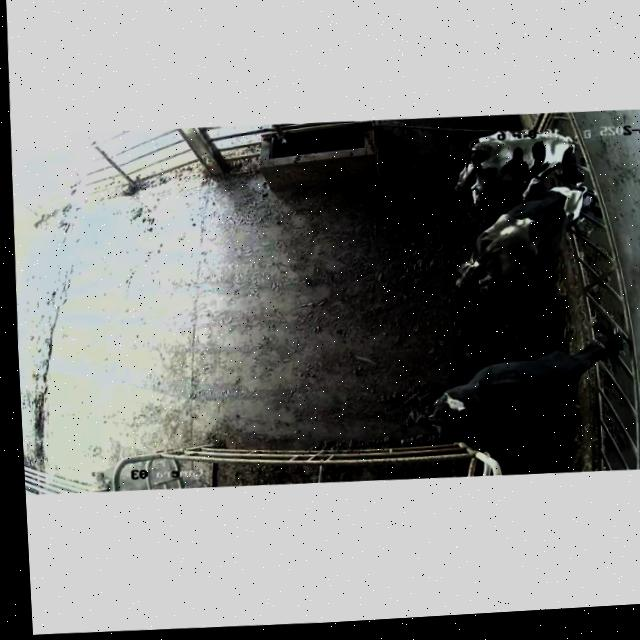eat: (537, 307, 640, 386), (525, 179, 623, 238), (522, 128, 608, 188)
